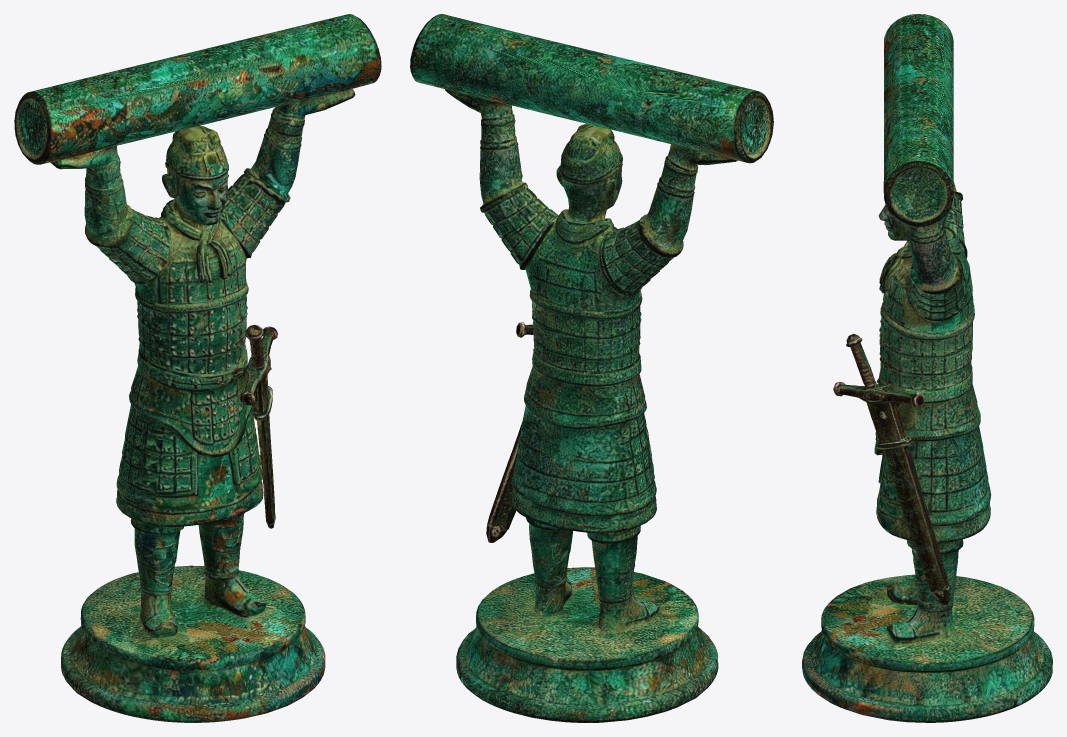
File: pillar.glb
3 renders of one model, left to right at view 1: azimuth 30°, elevation 25°; view 2: azimuth 150°, elevation 25°; view 3: azimuth 270°, elevation 25°, orthographic. The views are drawn at different scales.
Visible parts, largest first — view 1: pillar; view 2: pillar; view 3: pillar.
Boxes of the visible parts, x1,y1,x2,y2 form: pillar: (14, 14, 381, 722); pillar: (410, 14, 773, 722); pillar: (802, 14, 1052, 722).
Size of the model in its own units: 0.5765 by 1 by 0.3895.
Materials: 1 (1 with a texture image).
